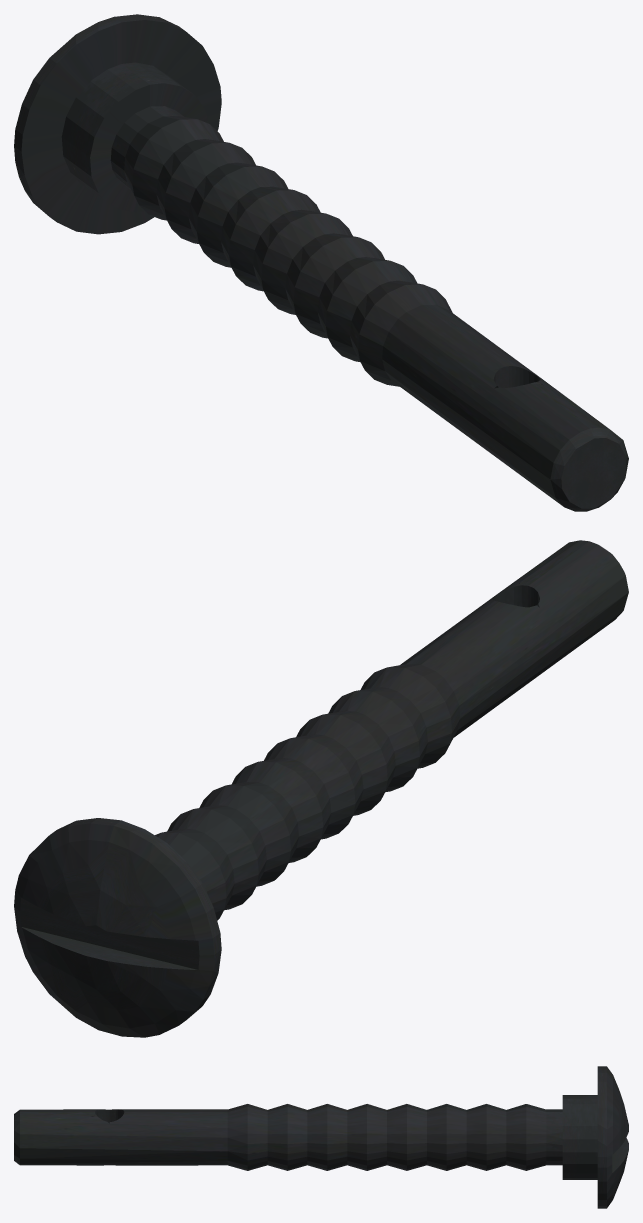
The model's file is Screw__Externally_Re.dae.
3 views of the same model, one above another, from view 1: azimuth 30°, elevation 25°; view 2: azimuth 150°, elevation 25°; view 3: azimuth 270°, elevation 25° (orthographic). The views are drawn at different scales.
Visible parts, largest first — view 1: Screw__Externally_Re; view 2: Screw__Externally_Re; view 3: Screw__Externally_Re.
Part boxes in pixels (box(x1,y1,x2,y2)): Screw__Externally_Re: box(14, 14, 628, 511); Screw__Externally_Re: box(14, 540, 628, 1037); Screw__Externally_Re: box(14, 1066, 628, 1208).
Size of the model in its own units: 0.00689 by 0.0297 by 0.00689.
1 material, 1 textured.
